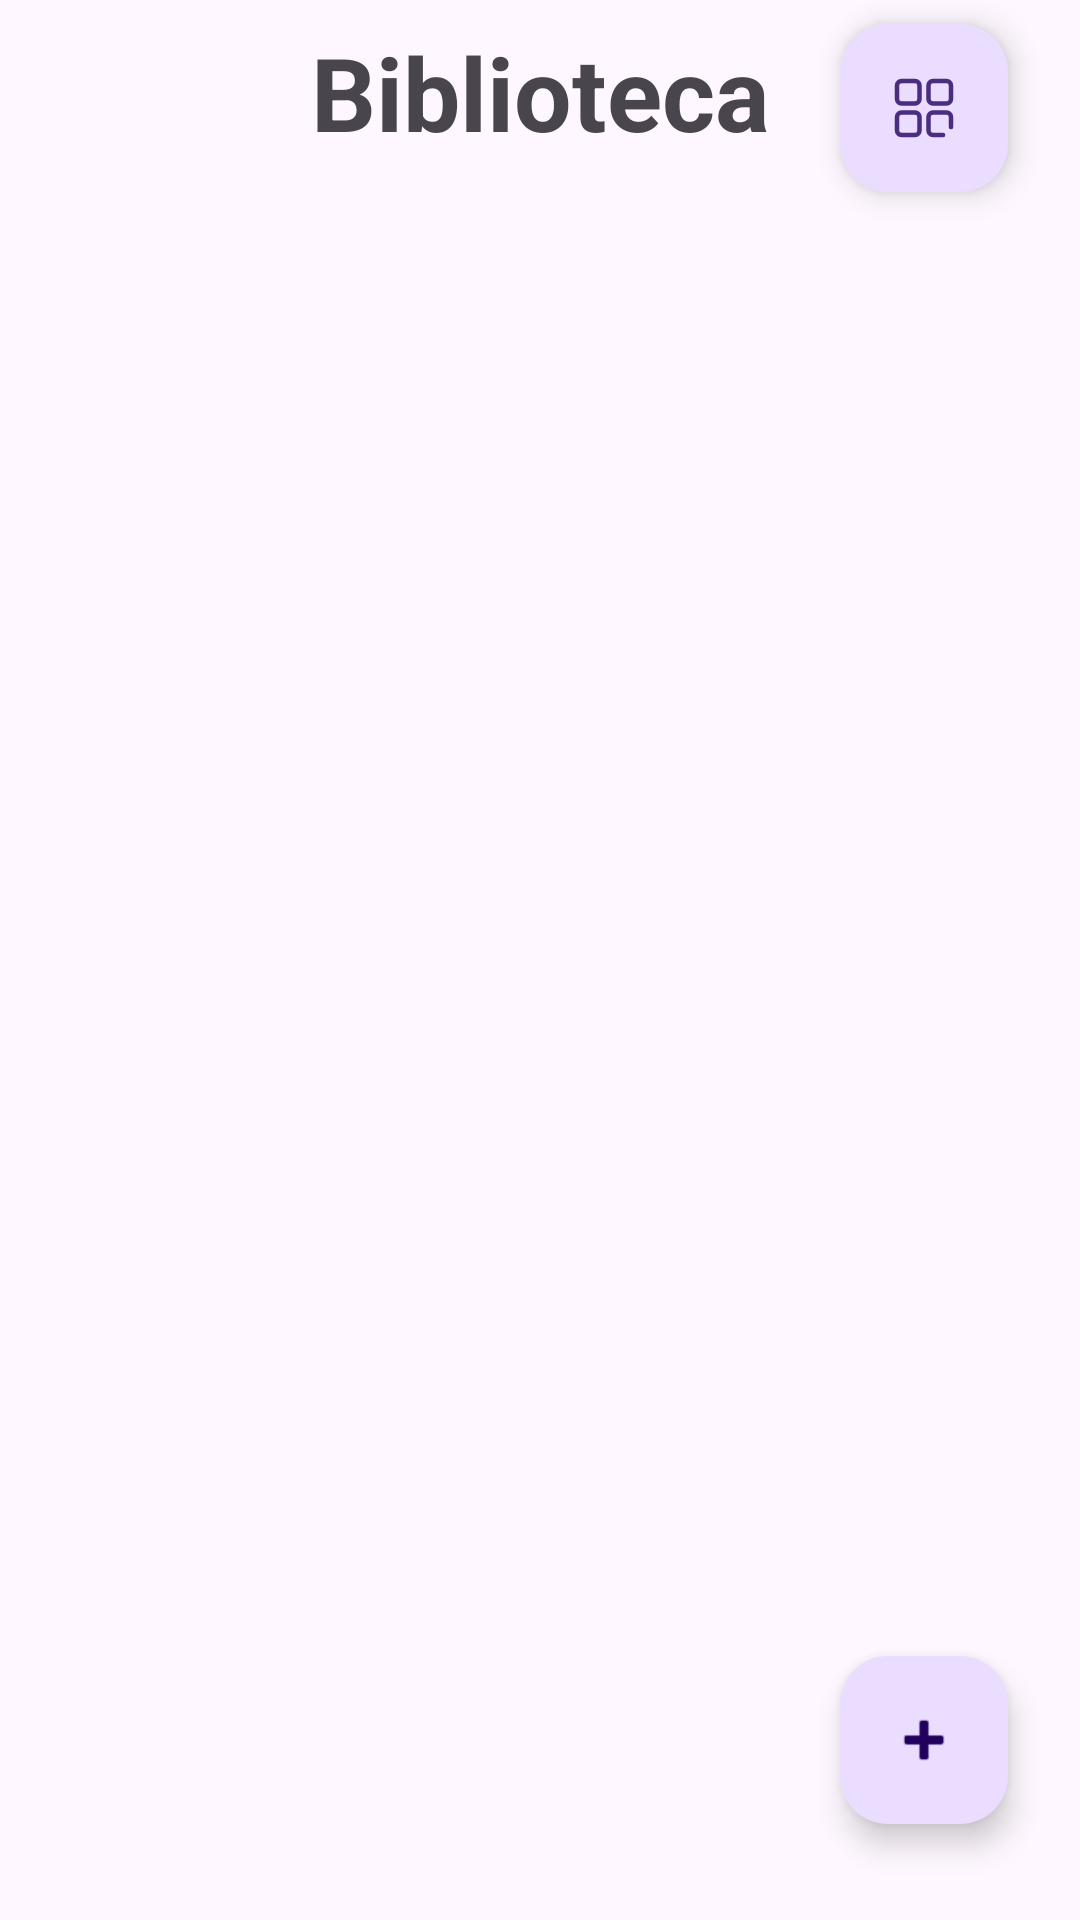

Point at icon controls on the screen. Image size 1080 x 1920, points as [x,y].
add: [924,1740]
show category: [924,108]
